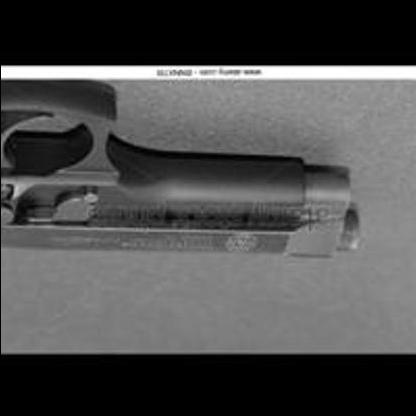weapon: (4, 77, 369, 273)
